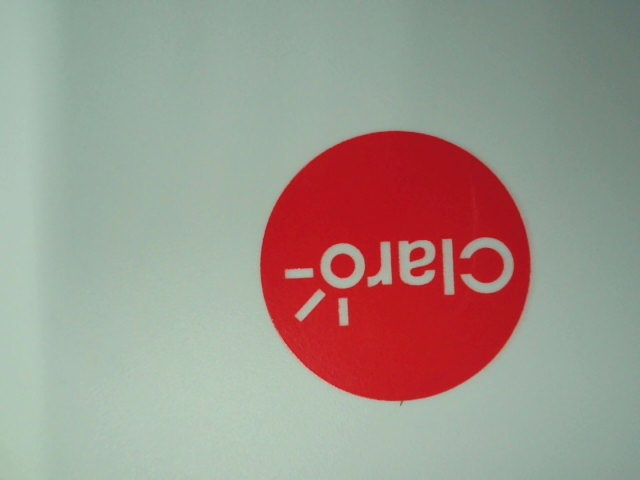BC_ClaorRed: (246, 128, 546, 404)
